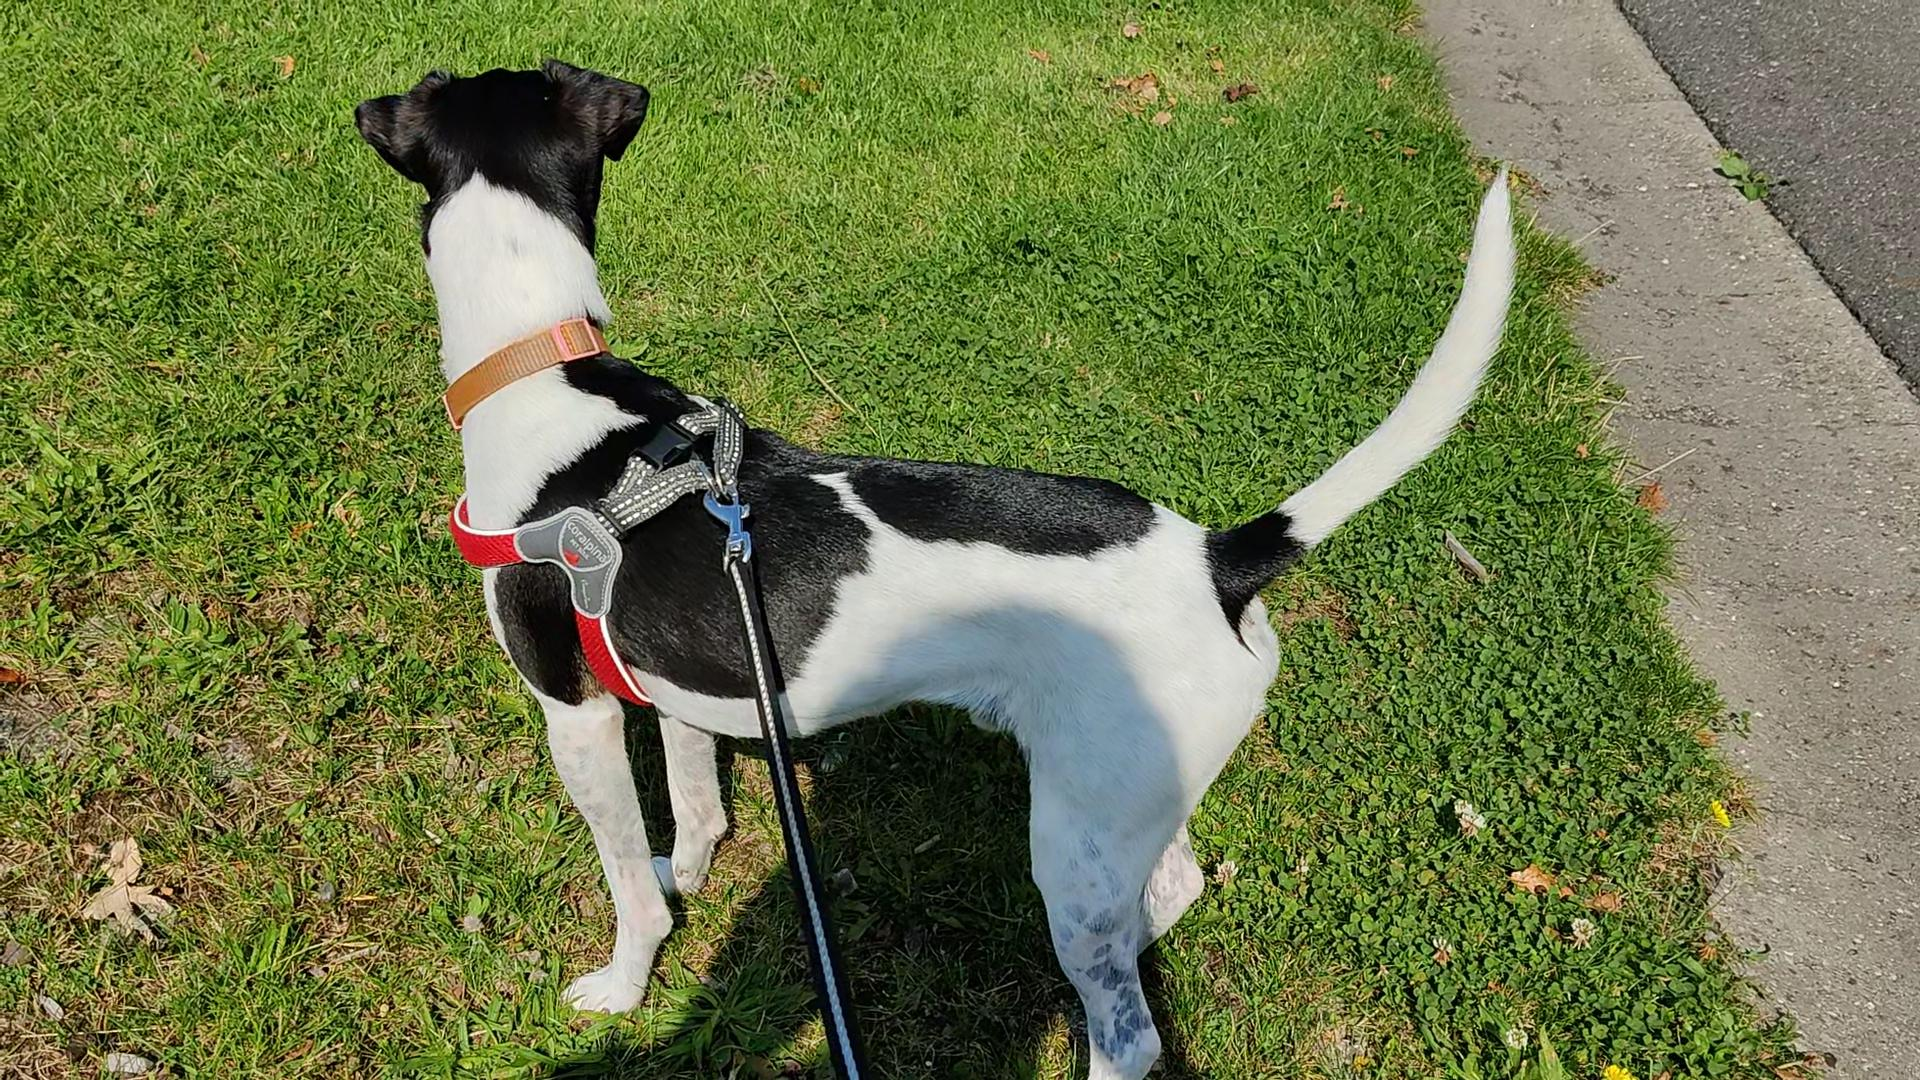Dog: (328, 47, 1542, 1079)
